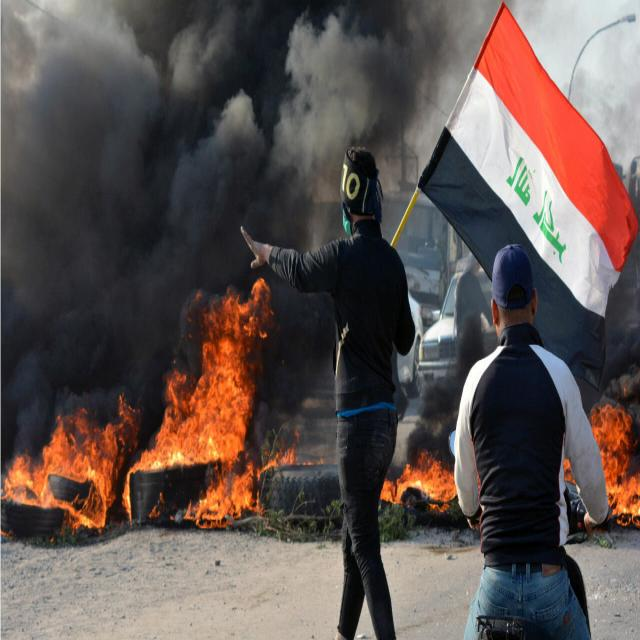fire: (122, 277, 272, 529), (4, 391, 141, 529), (184, 438, 296, 527), (590, 405, 638, 531), (380, 449, 458, 510)
